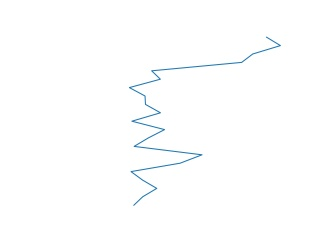crevasseRiverChannelBar: (125, 34, 287, 208)
